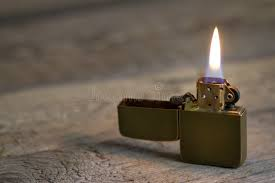Fire: (203, 23, 225, 82)
